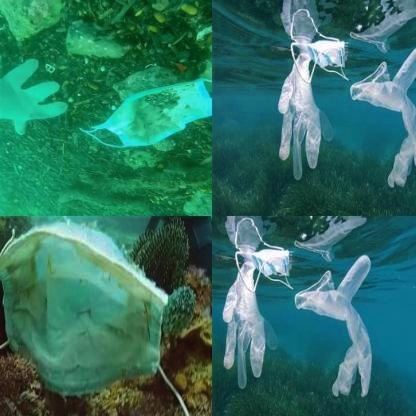Mask: (0, 219, 171, 400), (75, 72, 210, 157), (236, 246, 292, 298), (292, 38, 347, 90)
glove: (294, 248, 378, 401), (350, 39, 416, 193), (277, 70, 333, 180), (222, 279, 277, 389), (1, 58, 67, 139)
